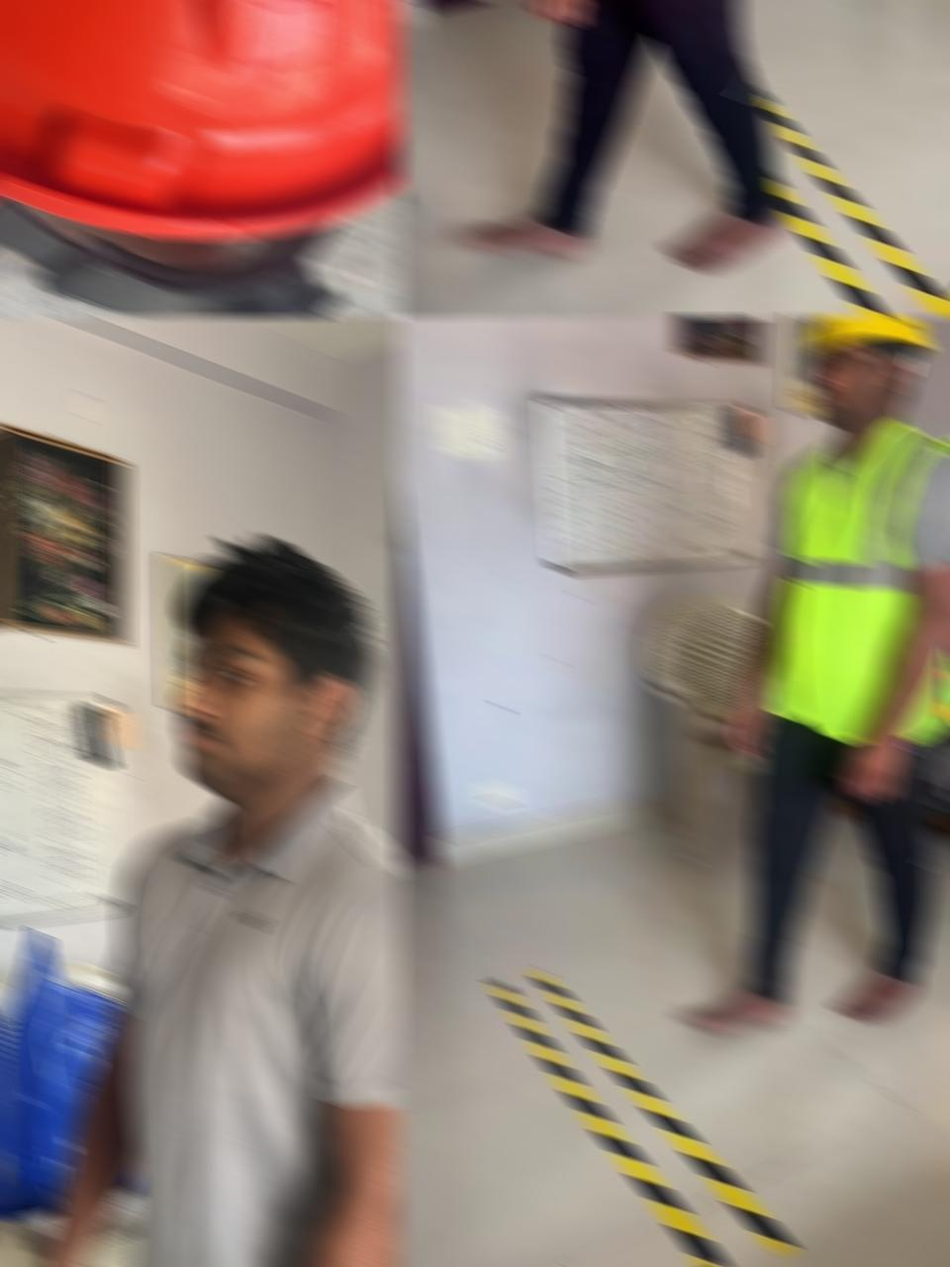BorderLine: (483, 967, 799, 1267), (760, 93, 950, 318)
Helmet: (0, 0, 403, 244), (798, 315, 935, 355)
No_Helmet: (174, 533, 380, 809)
No_Vest: (105, 777, 403, 1267)
Person: (17, 533, 403, 1267), (673, 315, 950, 1032), (462, 0, 785, 270)
Vest: (762, 417, 950, 741)
